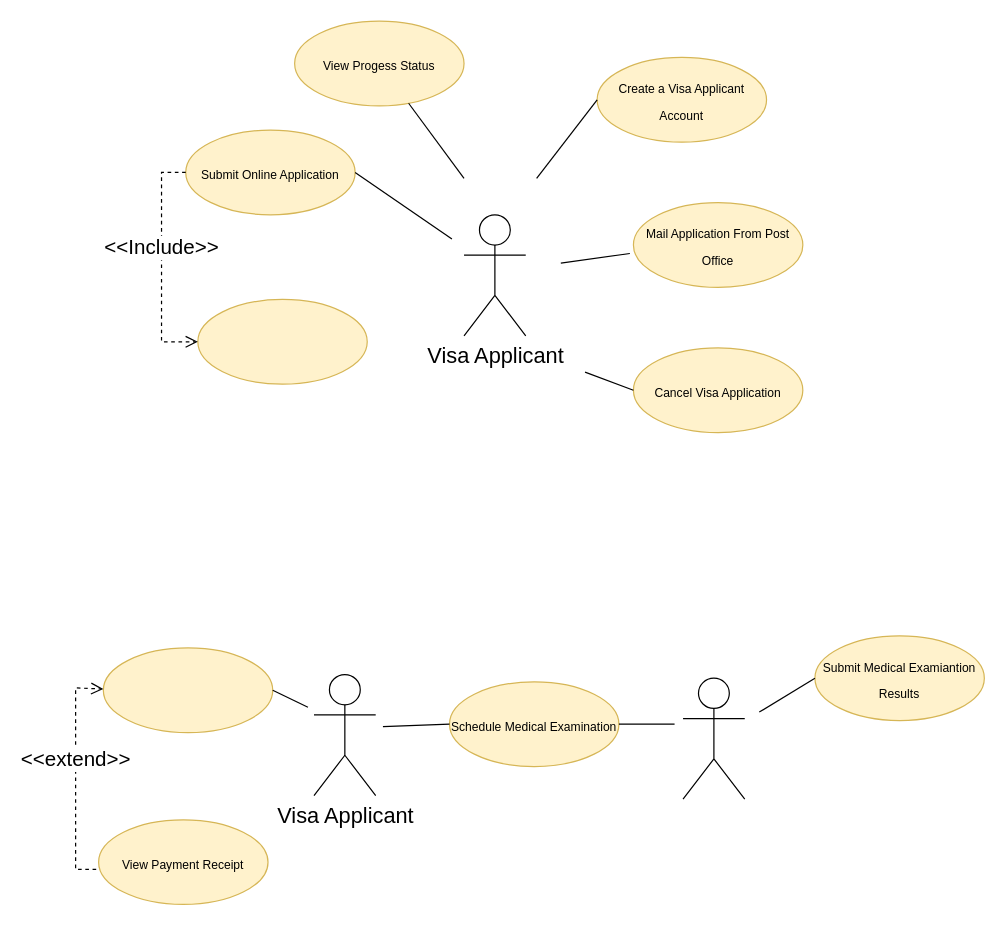
Some shapes in this 1006 by 926 pixel diagram are drawn without their labels. Here are the shapes that lost their labels. From the top down, the centre of each, then its label:
At point 282,341: "Upload Supporting Document".
At point 187,690: "Pay Medical Examination Fee".
At point 713,738: "Medical Examiner".
